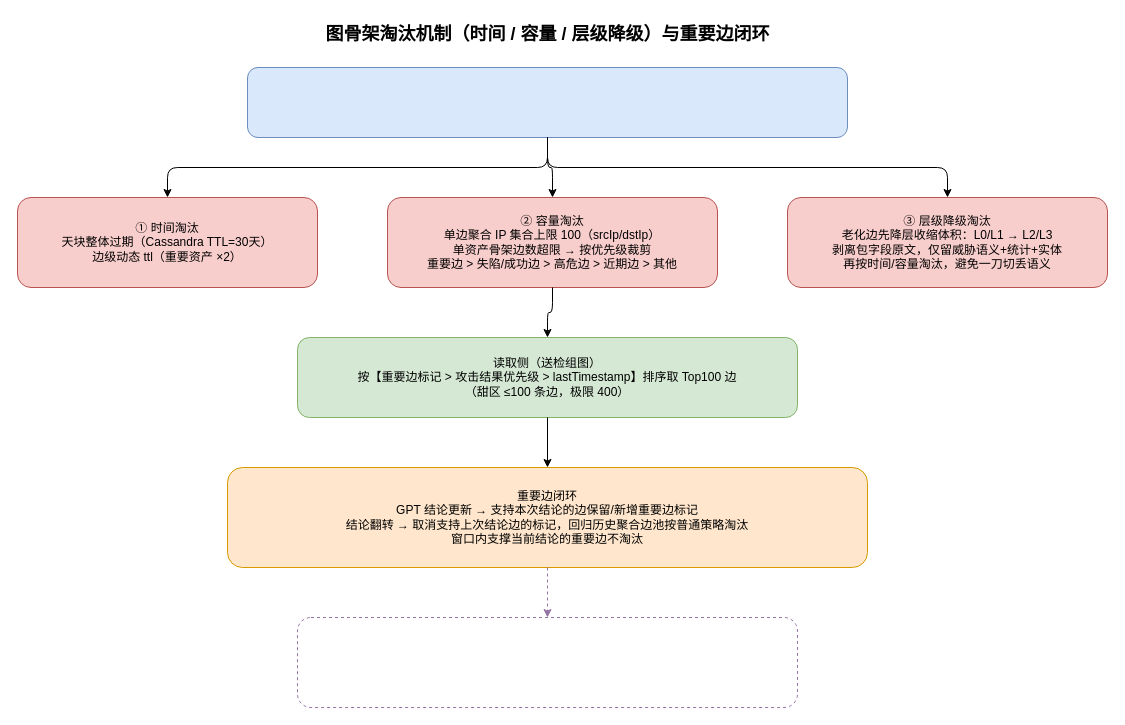
Some shapes in this 1125 by 725 pixel diagram are drawn without their labels. The centre of each missing label's shape, as x and y in pixels:
"图骨架（按天分块，每资产每天一块） D-0 ... D-6 参与送检（回看7天）；D-7 ... D-29 仅存储；D-30+ 过期" belongs at pixel 547 102.
"研判结论变更重触发（第一版预留） 升级必触发（误报→失陷）；降级仅更新档案 防环：同结论遏制窗口内不重触发；频控：次数上限+冷却时间" belongs at pixel 547 662.
